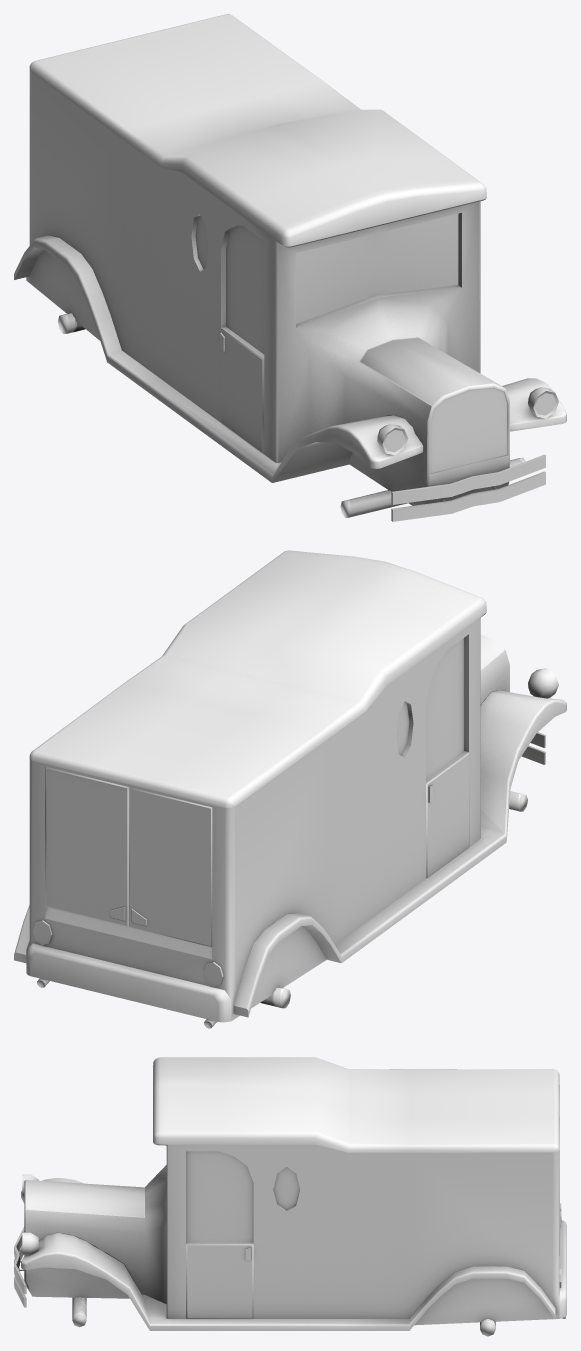
File: TruckCar.dae
The picture shows the model from 3 angles, top to bottom: view 1: azimuth 30°, elevation 25°; view 2: azimuth 150°, elevation 25°; view 3: azimuth 270°, elevation 25°; orthographic projection. The views are drawn at different scales.
Parts seen in each view (by area): view 1: CHASSIS; view 2: CHASSIS, DOOR_L, DOOR_R; view 3: CHASSIS.
Part boxes in pixels (x1,y1,x2,y2): CHASSIS: [14, 14, 566, 521]; CHASSIS: [14, 550, 566, 1028]; DOOR_L: [45, 767, 129, 926]; DOOR_R: [129, 787, 212, 947]; CHASSIS: [14, 1057, 566, 1336].
Bounding box in the file's own units: 2.35 × 6.11 × 2.55.
